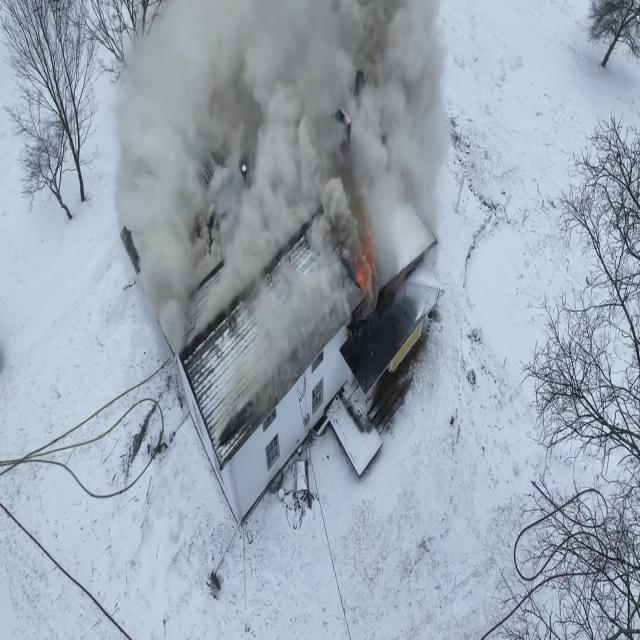Smoke: (100, 0, 468, 345)
